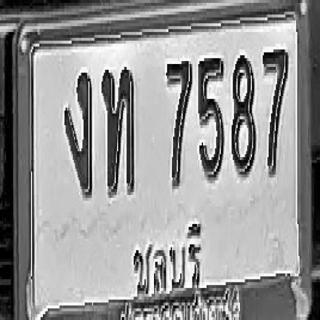A07: (64, 68, 93, 196)
A23: (101, 64, 135, 195)
N05: (198, 54, 224, 179)
N07: (165, 57, 192, 188), (262, 45, 288, 176)
N08: (230, 51, 256, 176)
P13: (129, 224, 206, 304)
